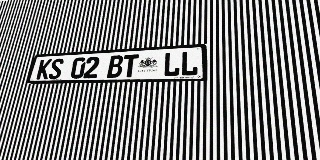plate: (27, 43, 207, 84)
